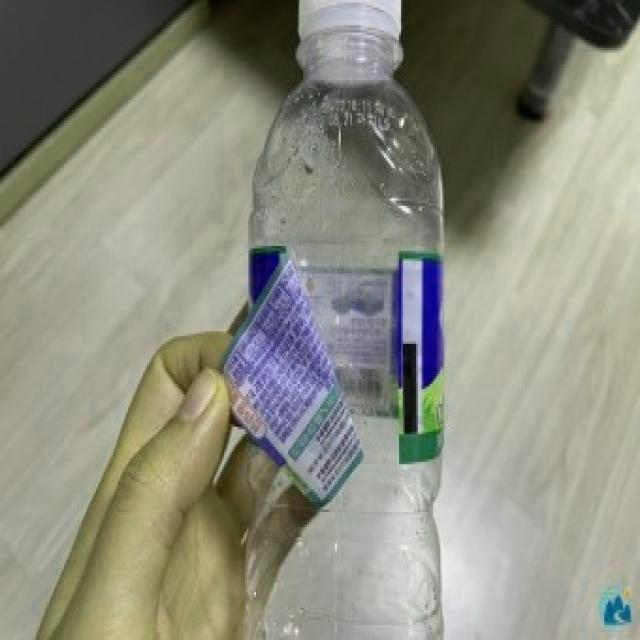bottle: (248, 2, 444, 640)
